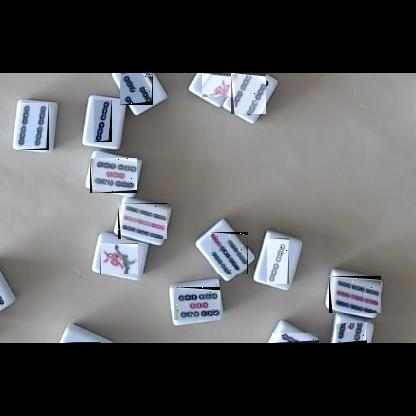1s: (100, 243, 138, 274), (202, 73, 235, 97)
2s: (267, 238, 289, 284), (94, 100, 112, 142), (61, 342, 101, 343)
3s: (120, 73, 153, 105)
4s: (18, 103, 49, 150), (231, 73, 266, 114), (272, 333, 319, 343)
5s: (90, 158, 137, 193), (174, 287, 220, 320), (336, 323, 367, 343)
7s: (209, 232, 248, 274)
9s: (329, 276, 381, 313), (118, 203, 167, 239)
